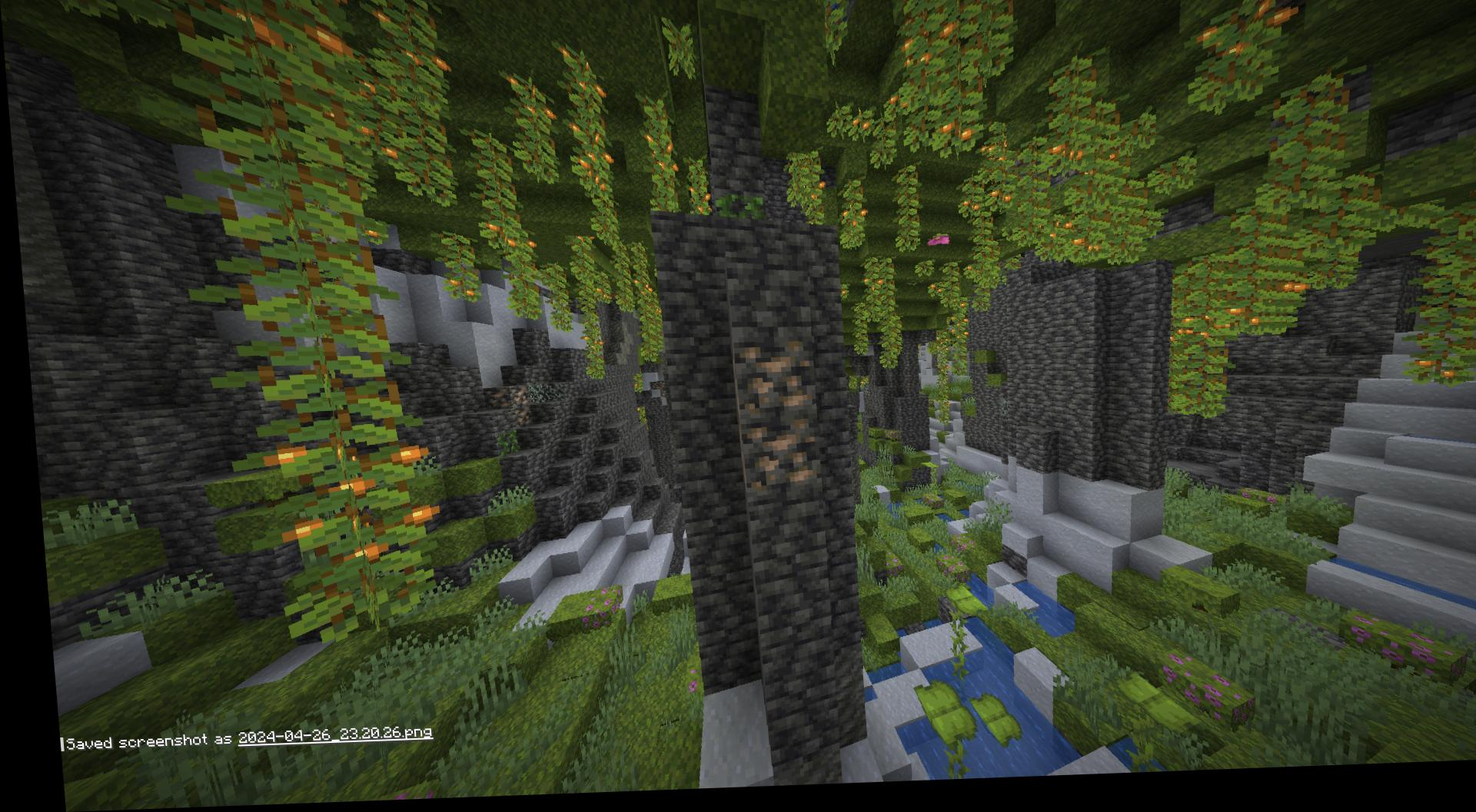iron ore: (720, 343, 808, 423), (735, 430, 808, 496), (486, 389, 524, 428)
